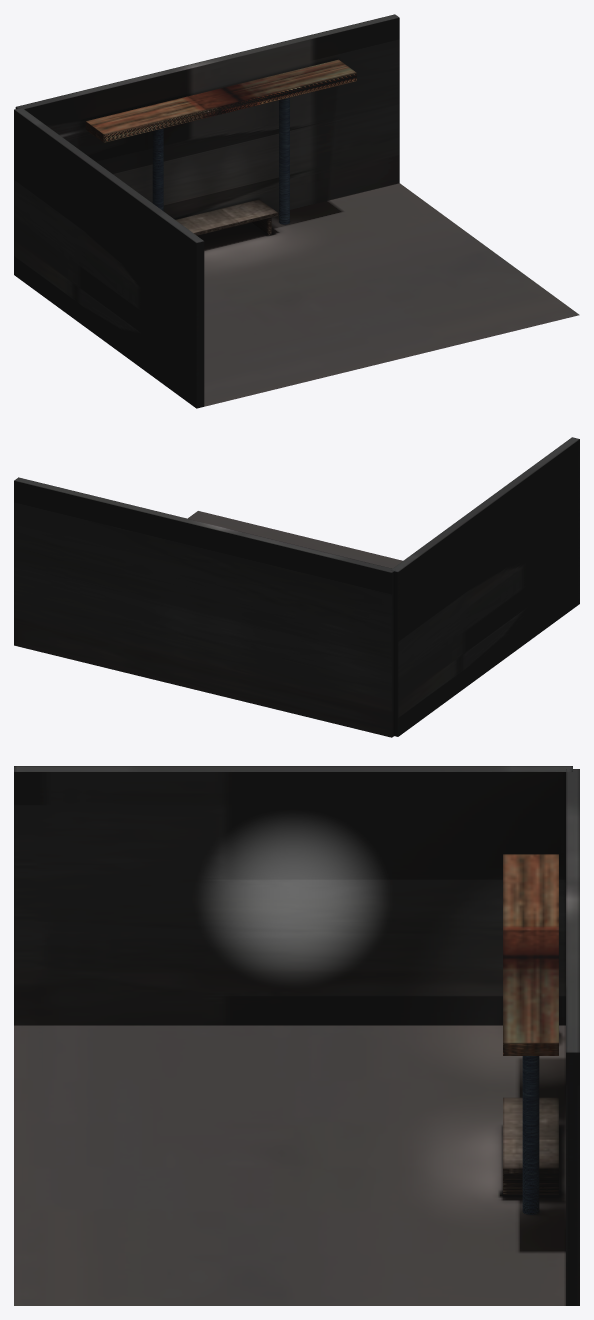
3 views of the same model, one above another, from view 1: azimuth 30°, elevation 25°; view 2: azimuth 150°, elevation 25°; view 3: azimuth 270°, elevation 25° (orthographic). The views are drawn at different scales.
Visible parts, largest first — view 1: Plane, Plane.002, Plane.001, Plane.008, Plane.005, Plane.007, Plane.006; view 2: Plane.002, Plane.001, Plane; view 3: Plane, Plane.001, Plane.008, Plane.002, Plane.005, Plane.007, Plane.003.
Boxes of the visible parts, x1,y1,x2,y2 form: Plane: (197,183,579,406); Plane.002: (15,14,399,219); Plane.001: (14,107,204,408); Plane.008: (85,59,356,142); Plane.005: (175,199,277,235); Plane.007: (279,97,289,224); Plane.006: (152,128,163,210); Plane.002: (14,477,394,737); Plane.001: (391,437,579,736); Plane: (188,511,402,568); Plane: (14,1025,565,1305); Plane.001: (14,766,572,1025); Plane.008: (503,854,558,1055); Plane.002: (566,769,579,1305); Plane.005: (503,1097,558,1173); Plane.007: (522,1056,539,1214); Plane.003: (503,1173,558,1194).
Size of the model in its own units: 24.25 by 10 by 20.25.
7 materials, 7 textured.
